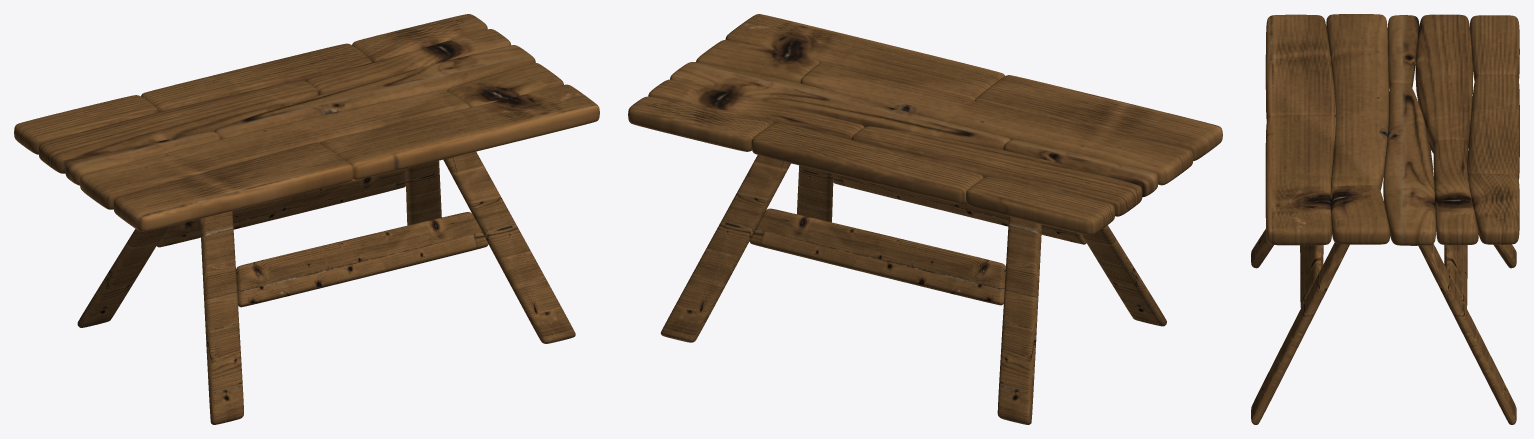
The model's file is Table.fbx.
The picture shows the model from 3 angles, left to right: view 1: azimuth 30°, elevation 25°; view 2: azimuth 150°, elevation 25°; view 3: azimuth 270°, elevation 25°; orthographic projection. The views are drawn at different scales.
Parts seen in each view (by area): view 1: Table1, Table; view 2: Table1, Table; view 3: Table1, Table.
Boxes of the visible parts, left/top/right/bottom form: Table1: left=14, top=14, right=599, bottom=231; Table: left=77, top=151, right=575, bottom=424; Table1: left=628, top=14, right=1222, bottom=235; Table: left=660, top=155, right=1166, bottom=424; Table1: left=1265, top=14, right=1519, bottom=245; Table: left=1251, top=140, right=1516, bottom=424.
Bounding box in the file's own units: 1.97 × 0.8858 × 1.02.
2 materials, 2 textured.
